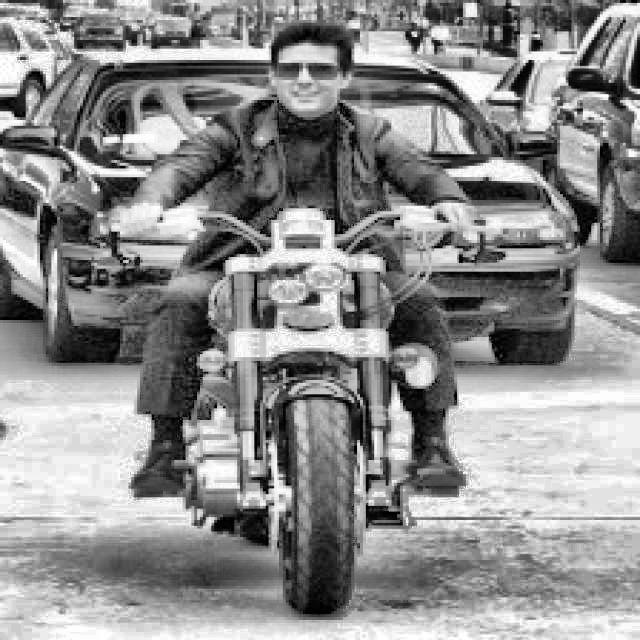motorcycle: (84, 172, 528, 615)
